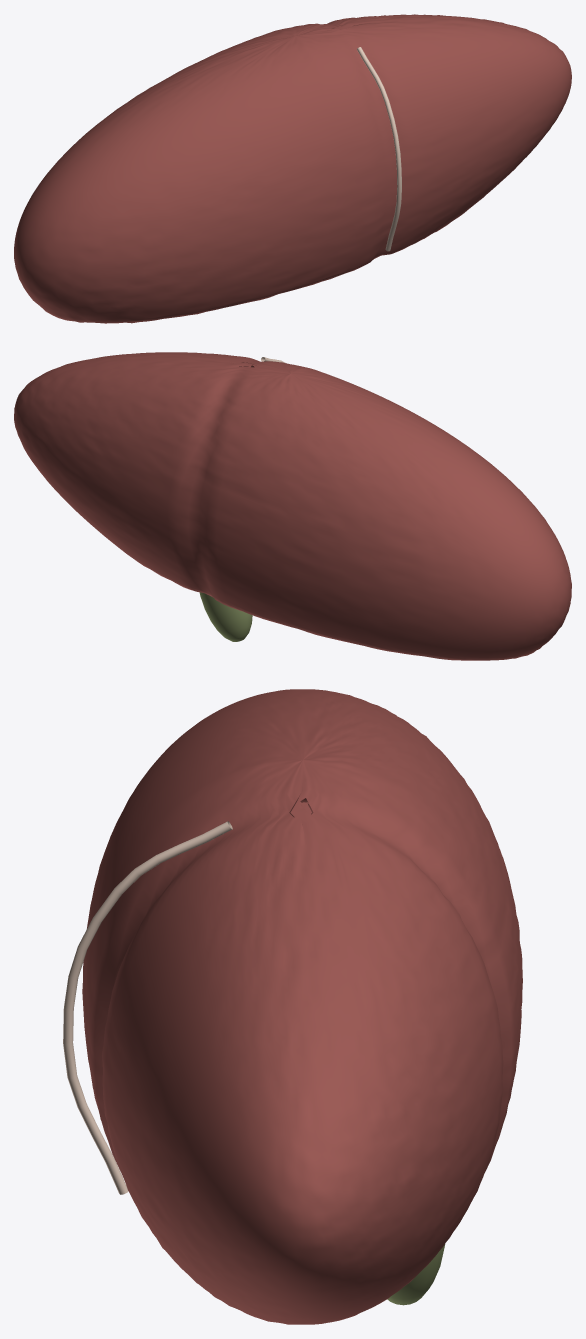
The model's file is reference-liver.glb.
3 renders of one model, top to bottom at view 1: azimuth 30°, elevation 25°; view 2: azimuth 150°, elevation 25°; view 3: azimuth 270°, elevation 25°, orthographic. The views are drawn at different scales.
Parts seen in each view (by area): view 1: Liver capsule and lobes; view 2: Liver capsule and lobes; view 3: Liver capsule and lobes.
Boxes of the visible parts, x1,y1,x2,y2 form: Liver capsule and lobes: (14,14,571,323); Liver capsule and lobes: (14,352,571,660); Liver capsule and lobes: (63,689,522,1324).
Bounding box in the file's own units: 2.26 × 1.01 × 0.8227.
